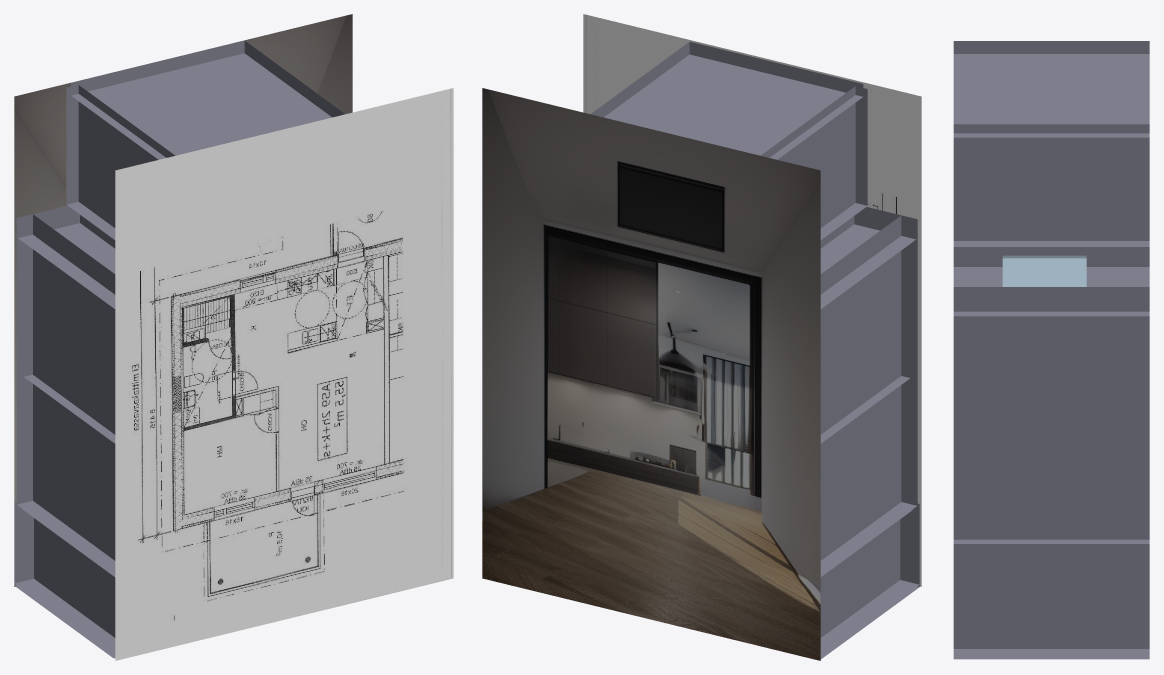
The picture shows the model from 3 angles, left to right: view 1: azimuth 30°, elevation 25°; view 2: azimuth 150°, elevation 25°; view 3: azimuth 270°, elevation 25°; orthographic projection.
Visible parts, largest first — view 1: FloorPlan, 18_png.rf.4956b6043e9f9f738808088cfe37243d, InteriorFloor; view 2: InteriorFloor, 18_png.rf.4956b6043e9f9f738808088cfe37243d, FloorPlan; view 3: 18_png.rf.4956b6043e9f9f738808088cfe37243d.
Part boxes in pixels (left/top/right/bottom): FloorPlan: left=115, top=88, right=453, bottom=660; 18_png.rf.4956b6043e9f9f738808088cfe37243d: left=14, top=40, right=344, bottom=658; InteriorFloor: left=14, top=14, right=352, bottom=586; InteriorFloor: left=482, top=88, right=820, bottom=660; 18_png.rf.4956b6043e9f9f738808088cfe37243d: left=591, top=41, right=919, bottom=659; FloorPlan: left=583, top=14, right=921, bottom=586; 18_png.rf.4956b6043e9f9f738808088cfe37243d: left=953, top=41, right=1149, bottom=659.
Bounding box in the file's own units: 5.51 × 7.64 × 2.85.
Materials: 3 (2 with a texture image).
